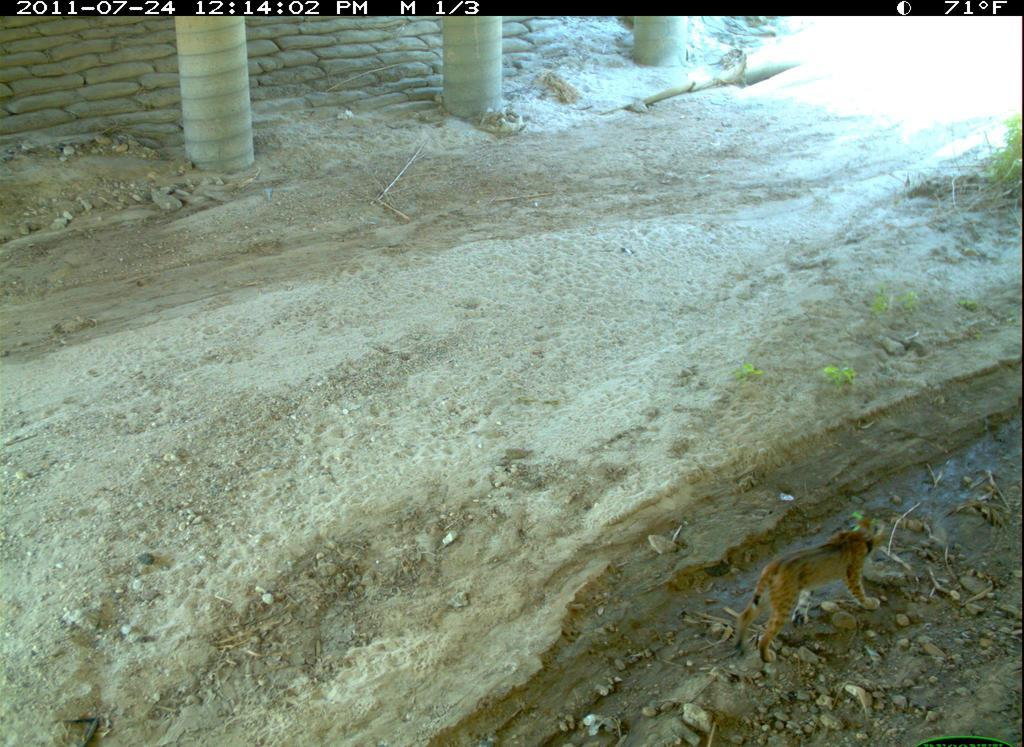bobcat: (735, 513, 891, 671)
